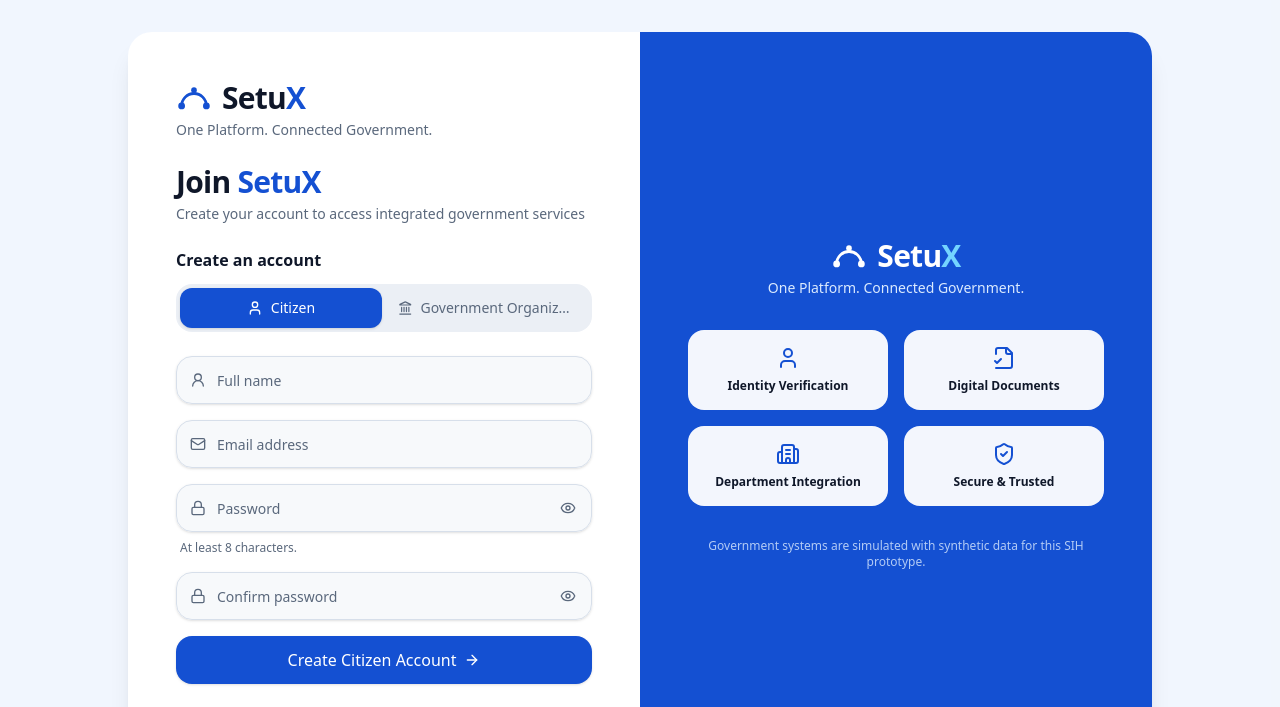
RegisterPage › shows a safe message when the account already exists
Step 1. Type "Asha Rao" into the field with placeholder "Full name" → (384, 380), box [176,356,592,404]
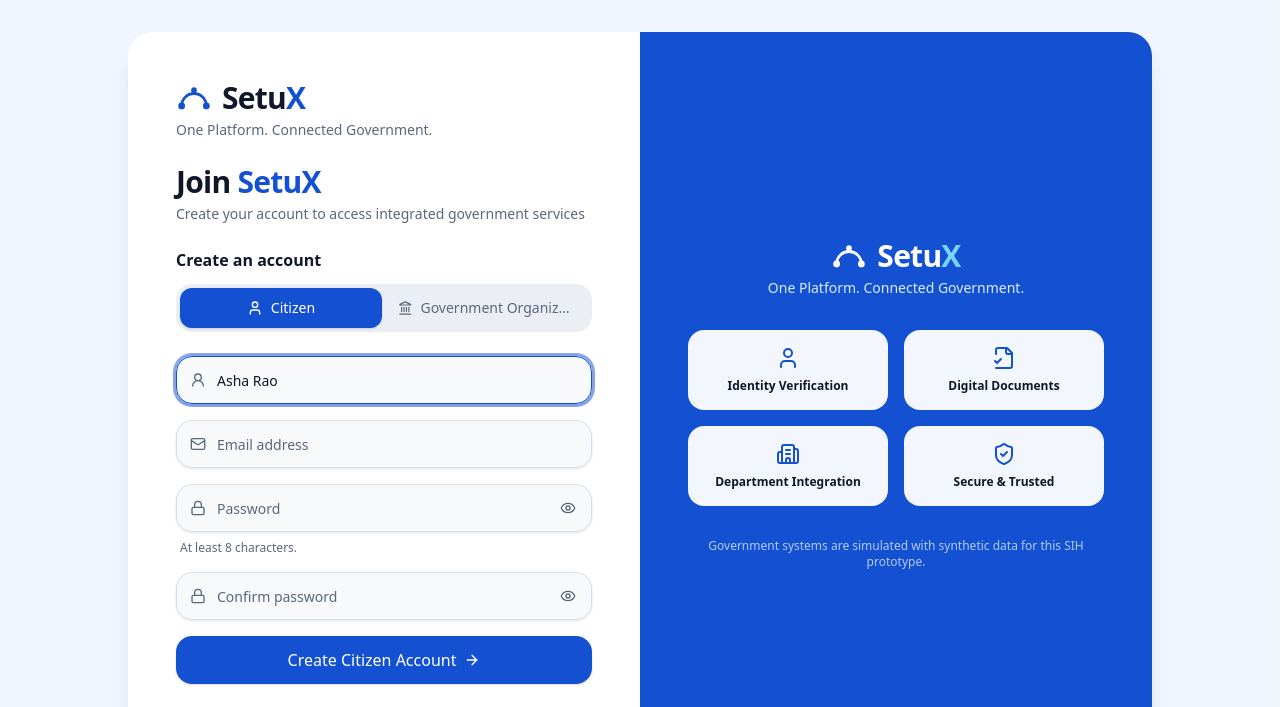
Step 2. Type "asha@example.com" into the field with placeholder "Email address" → (384, 444), box [176,420,592,468]
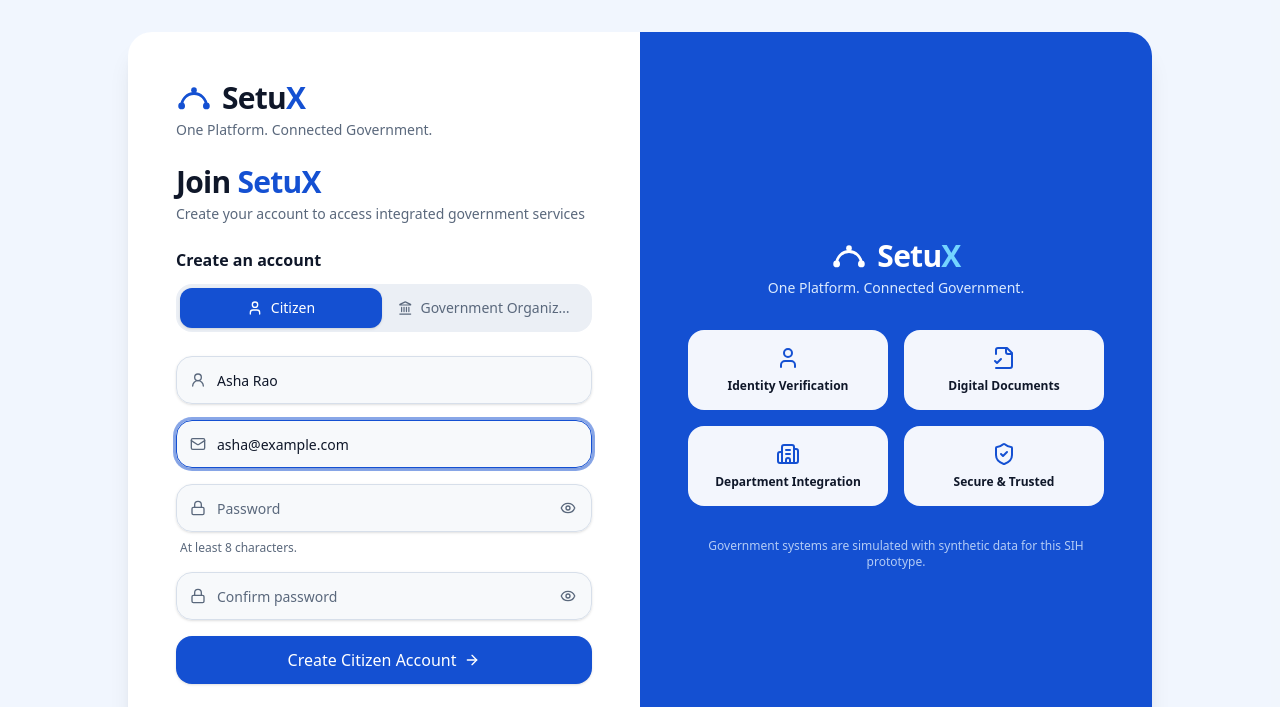
Step 3. Type "StrongPassword123!" into the password field with placeholder "Password" → (384, 508), box [176,484,592,532]
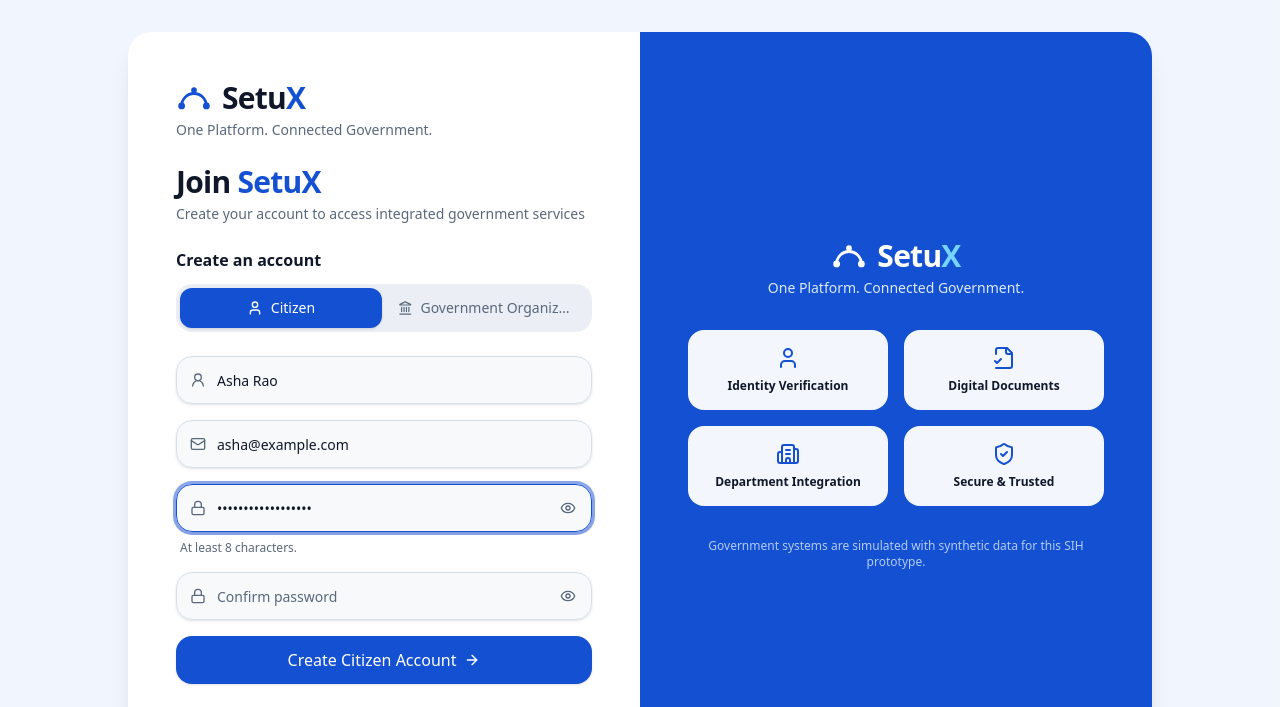
Step 4. Type "StrongPassword123!" into the password field with placeholder "Confirm password" → (384, 596), box [176,572,592,620]
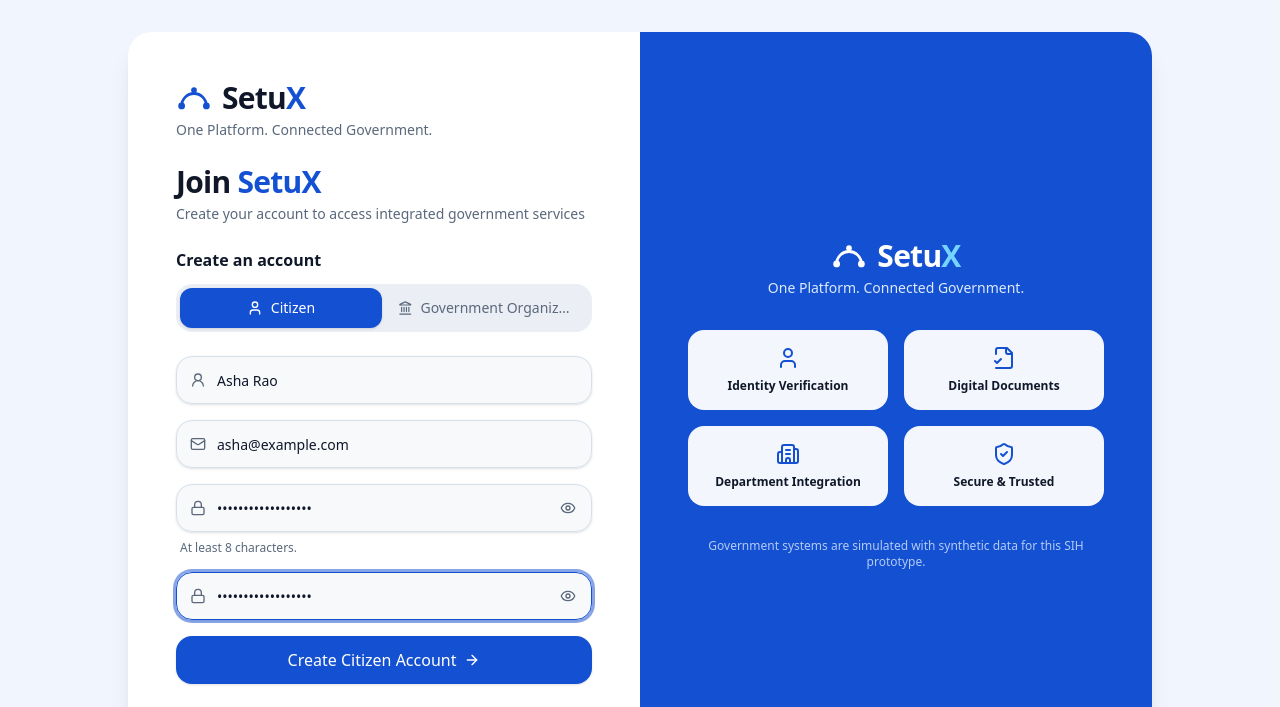
Step 5. Click the button "Create Citizen Account" → click(384, 660), box [176,636,592,684]
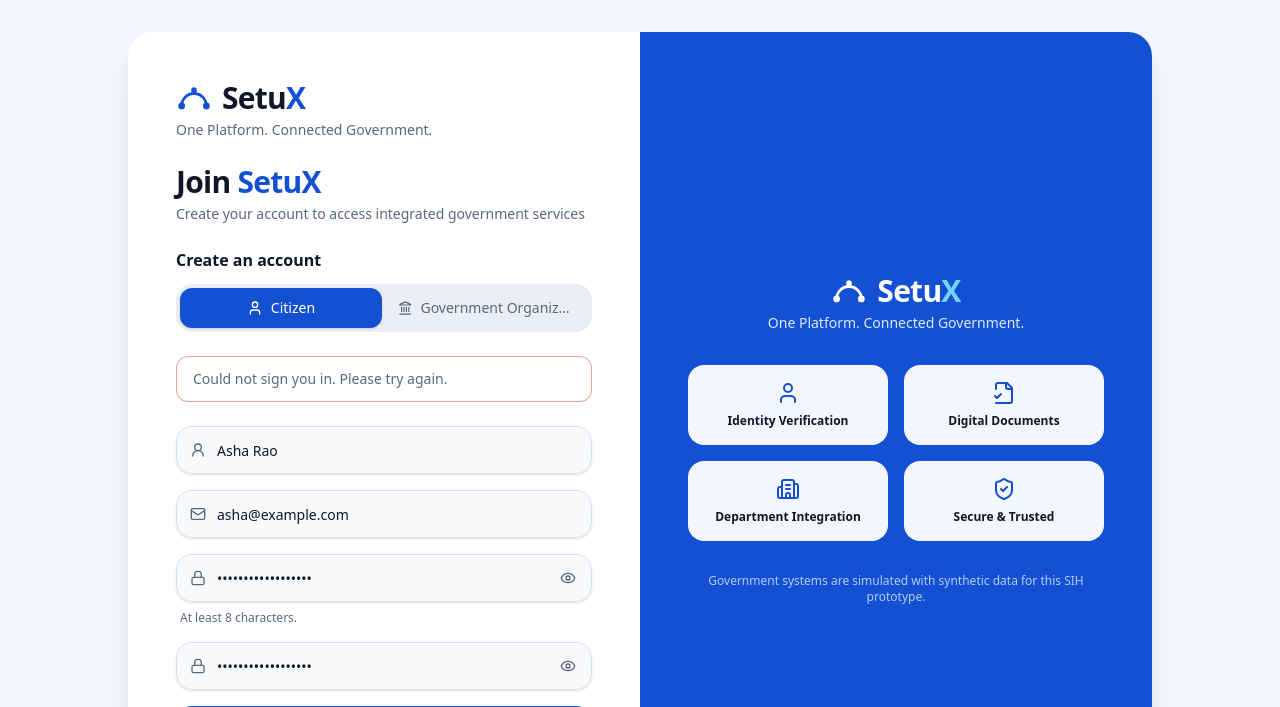
expect the message "Could not sign you in. Please try again." is shown: met, box [176,356,592,402]
